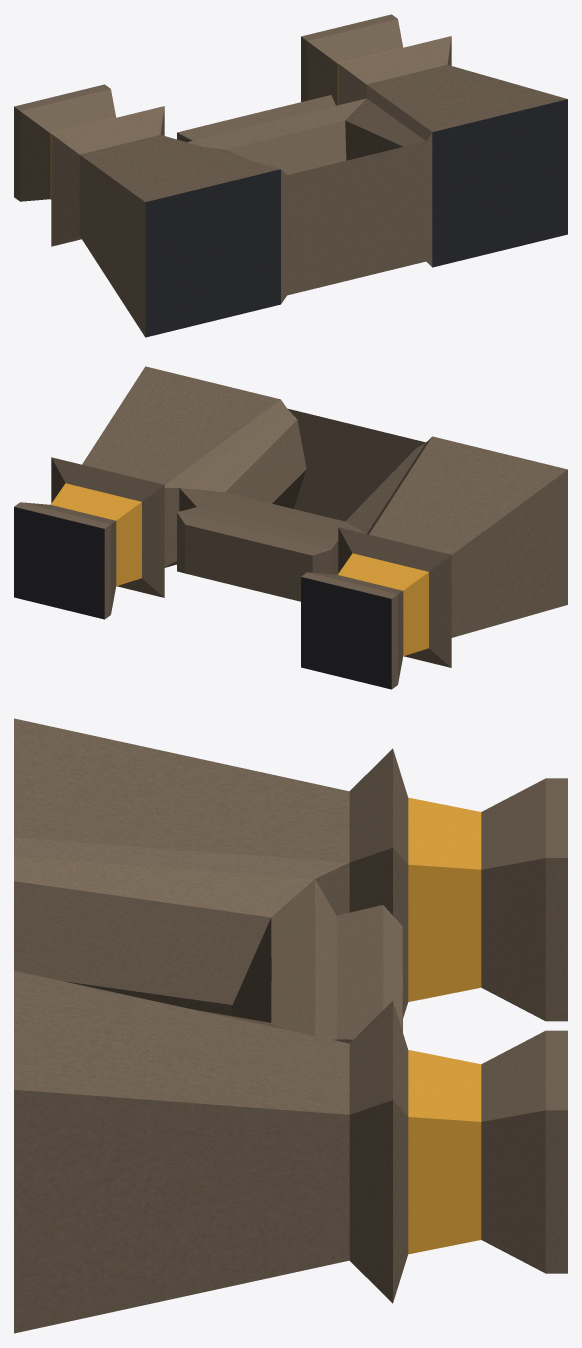
The model's file is desert_symbol_gate.FBX.
The picture shows the model from 3 angles, top to bottom: view 1: azimuth 30°, elevation 25°; view 2: azimuth 150°, elevation 25°; view 3: azimuth 270°, elevation 25°; orthographic projection. The views are drawn at different scales.
Parts seen in each view (by area): view 1: desert_castle; view 2: desert_castle; view 3: desert_castle.
Part boxes in pixels (x1=…): desert_castle: x1=14, y1=14, x2=567, y2=337; desert_castle: x1=14, y1=366, x2=567, y2=689; desert_castle: x1=14, y1=718, x2=567, y2=1333.
Size of the model in its own units: 542 by 166 by 342.
